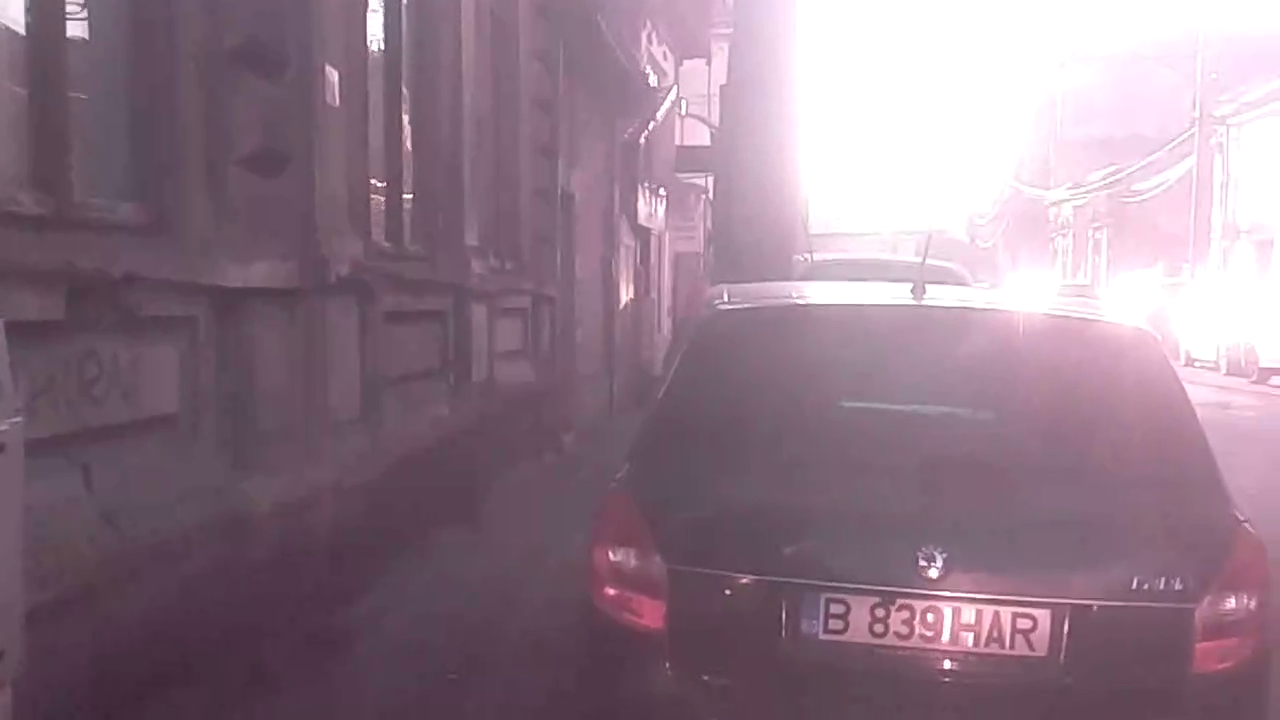license-plate: (791, 580, 1064, 665)
